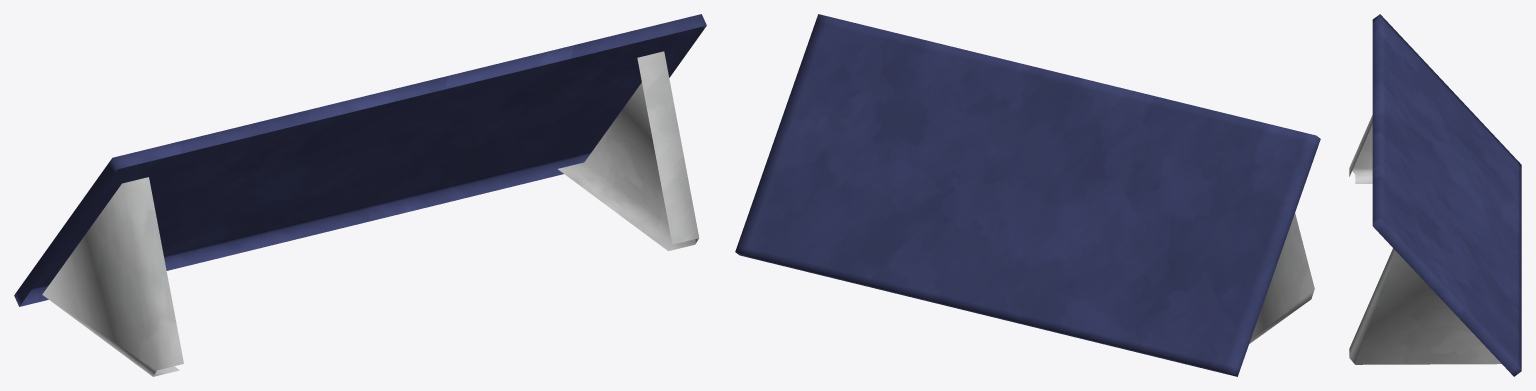
Rendered from SolarPanel.glb.
3 renders of one model, left to right at view 1: azimuth 30°, elevation 25°; view 2: azimuth 150°, elevation 25°; view 3: azimuth 270°, elevation 25°, orthographic. The views are drawn at different scales.
Visible parts, largest first — view 1: SolarPanel; view 2: SolarPanel; view 3: SolarPanel.
Part boxes in pixels (x1,y1,x2,y2): SolarPanel: [14, 14, 706, 376]; SolarPanel: [735, 14, 1320, 376]; SolarPanel: [1349, 14, 1521, 376].
Bounding box in the file's own units: 115 × 40.37 × 40.31.
1 material, 1 textured.
